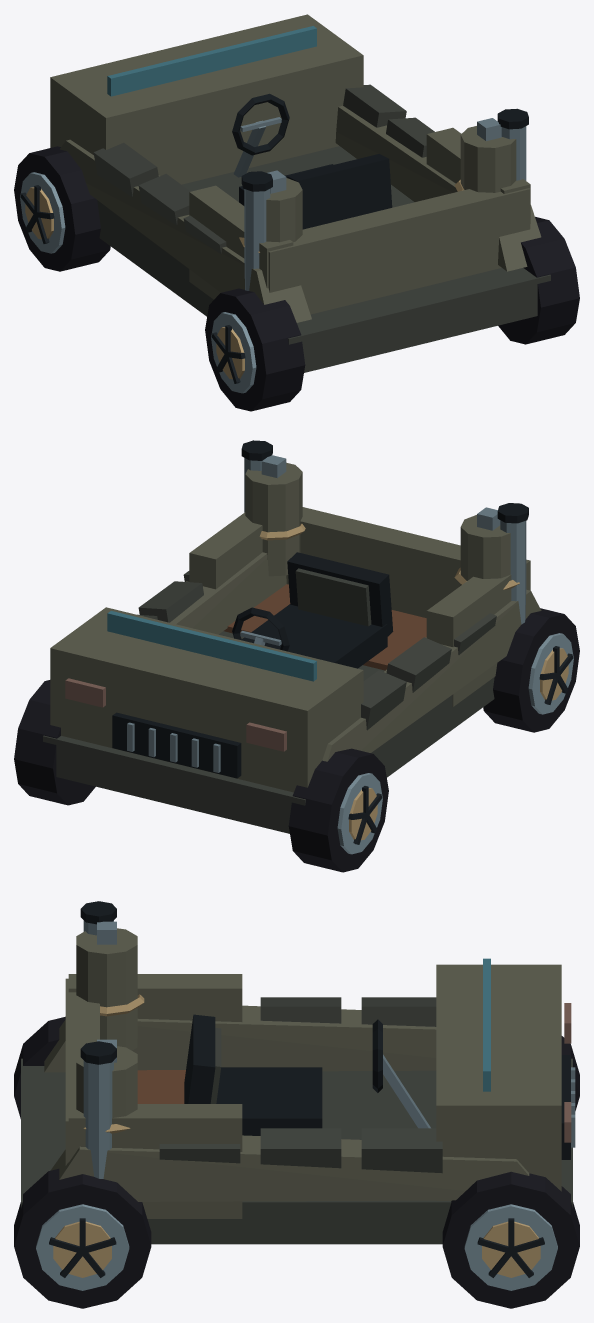
File: kart.glb
3 views of the same model, one above another, from view 1: azimuth 30°, elevation 25°; view 2: azimuth 150°, elevation 25°; view 3: azimuth 270°, elevation 25° (orthographic). The views are drawn at different scales.
Visible parts, largest first — view 1: identity-truck-truck-utility-body, wheel-rear-left, wheel-front-left, identity-truck-driver-cockpit, identity-truck-motif-armor, identity-truck-motif-tanks, wheel-rear-right, identity-truck-motif-exhaust; view 2: identity-truck-truck-utility-body, identity-truck-driver-cockpit, wheel-front-left, identity-truck-motif-tanks, wheel-rear-left, identity-truck-motif-armor, wheel-front-right, identity-truck-motif-exhaust; view 3: identity-truck-truck-utility-body, wheel-front-right, wheel-rear-right, identity-truck-motif-armor, identity-truck-driver-cockpit, identity-truck-motif-tanks, identity-truck-motif-exhaust, wheel-rear-left.
Boxes of the visible parts, <box> form: identity-truck-truck-utility-body: <box>50,14,550,372</box>; wheel-rear-left: <box>205,288,305,411</box>; wheel-front-left: <box>14,146,110,271</box>; identity-truck-driver-cockpit: <box>232,93,392,229</box>; identity-truck-motif-armor: <box>93,84,434,253</box>; identity-truck-motif-tanks: <box>239,118,516,252</box>; wheel-rear-right: <box>498,216,579,344</box>; identity-truck-motif-exhaust: <box>241,108,528,290</box>; identity-truck-truck-utility-body: <box>43,507,541,833</box>; identity-truck-driver-cockpit: <box>232,552,393,668</box>; wheel-front-left: <box>288,748,388,872</box>; identity-truck-motif-tanks: <box>245,455,519,589</box>; wheel-rear-left: <box>483,608,579,732</box>; identity-truck-motif-armor: <box>137,571,496,730</box>; wheel-front-right: <box>14,680,95,805</box>; identity-truck-motif-exhaust: <box>241,440,528,624</box>; identity-truck-truck-utility-body: <box>21,958,575,1244</box>; wheel-front-right: <box>442,1171,579,1308</box>; wheel-rear-right: <box>14,1168,151,1308</box>; identity-truck-motif-armor: <box>159,997,442,1173</box>; identity-truck-driver-cockpit: <box>184,1014,430,1135</box>; identity-truck-motif-tanks: <box>76,921,144,1133</box>; identity-truck-motif-exhaust: <box>80,901,116,1178</box>; wheel-rear-left: <box>14,1016,65,1118</box>.
Bounding box in the file's own units: 2.13 × 1.33 × 2.8.
